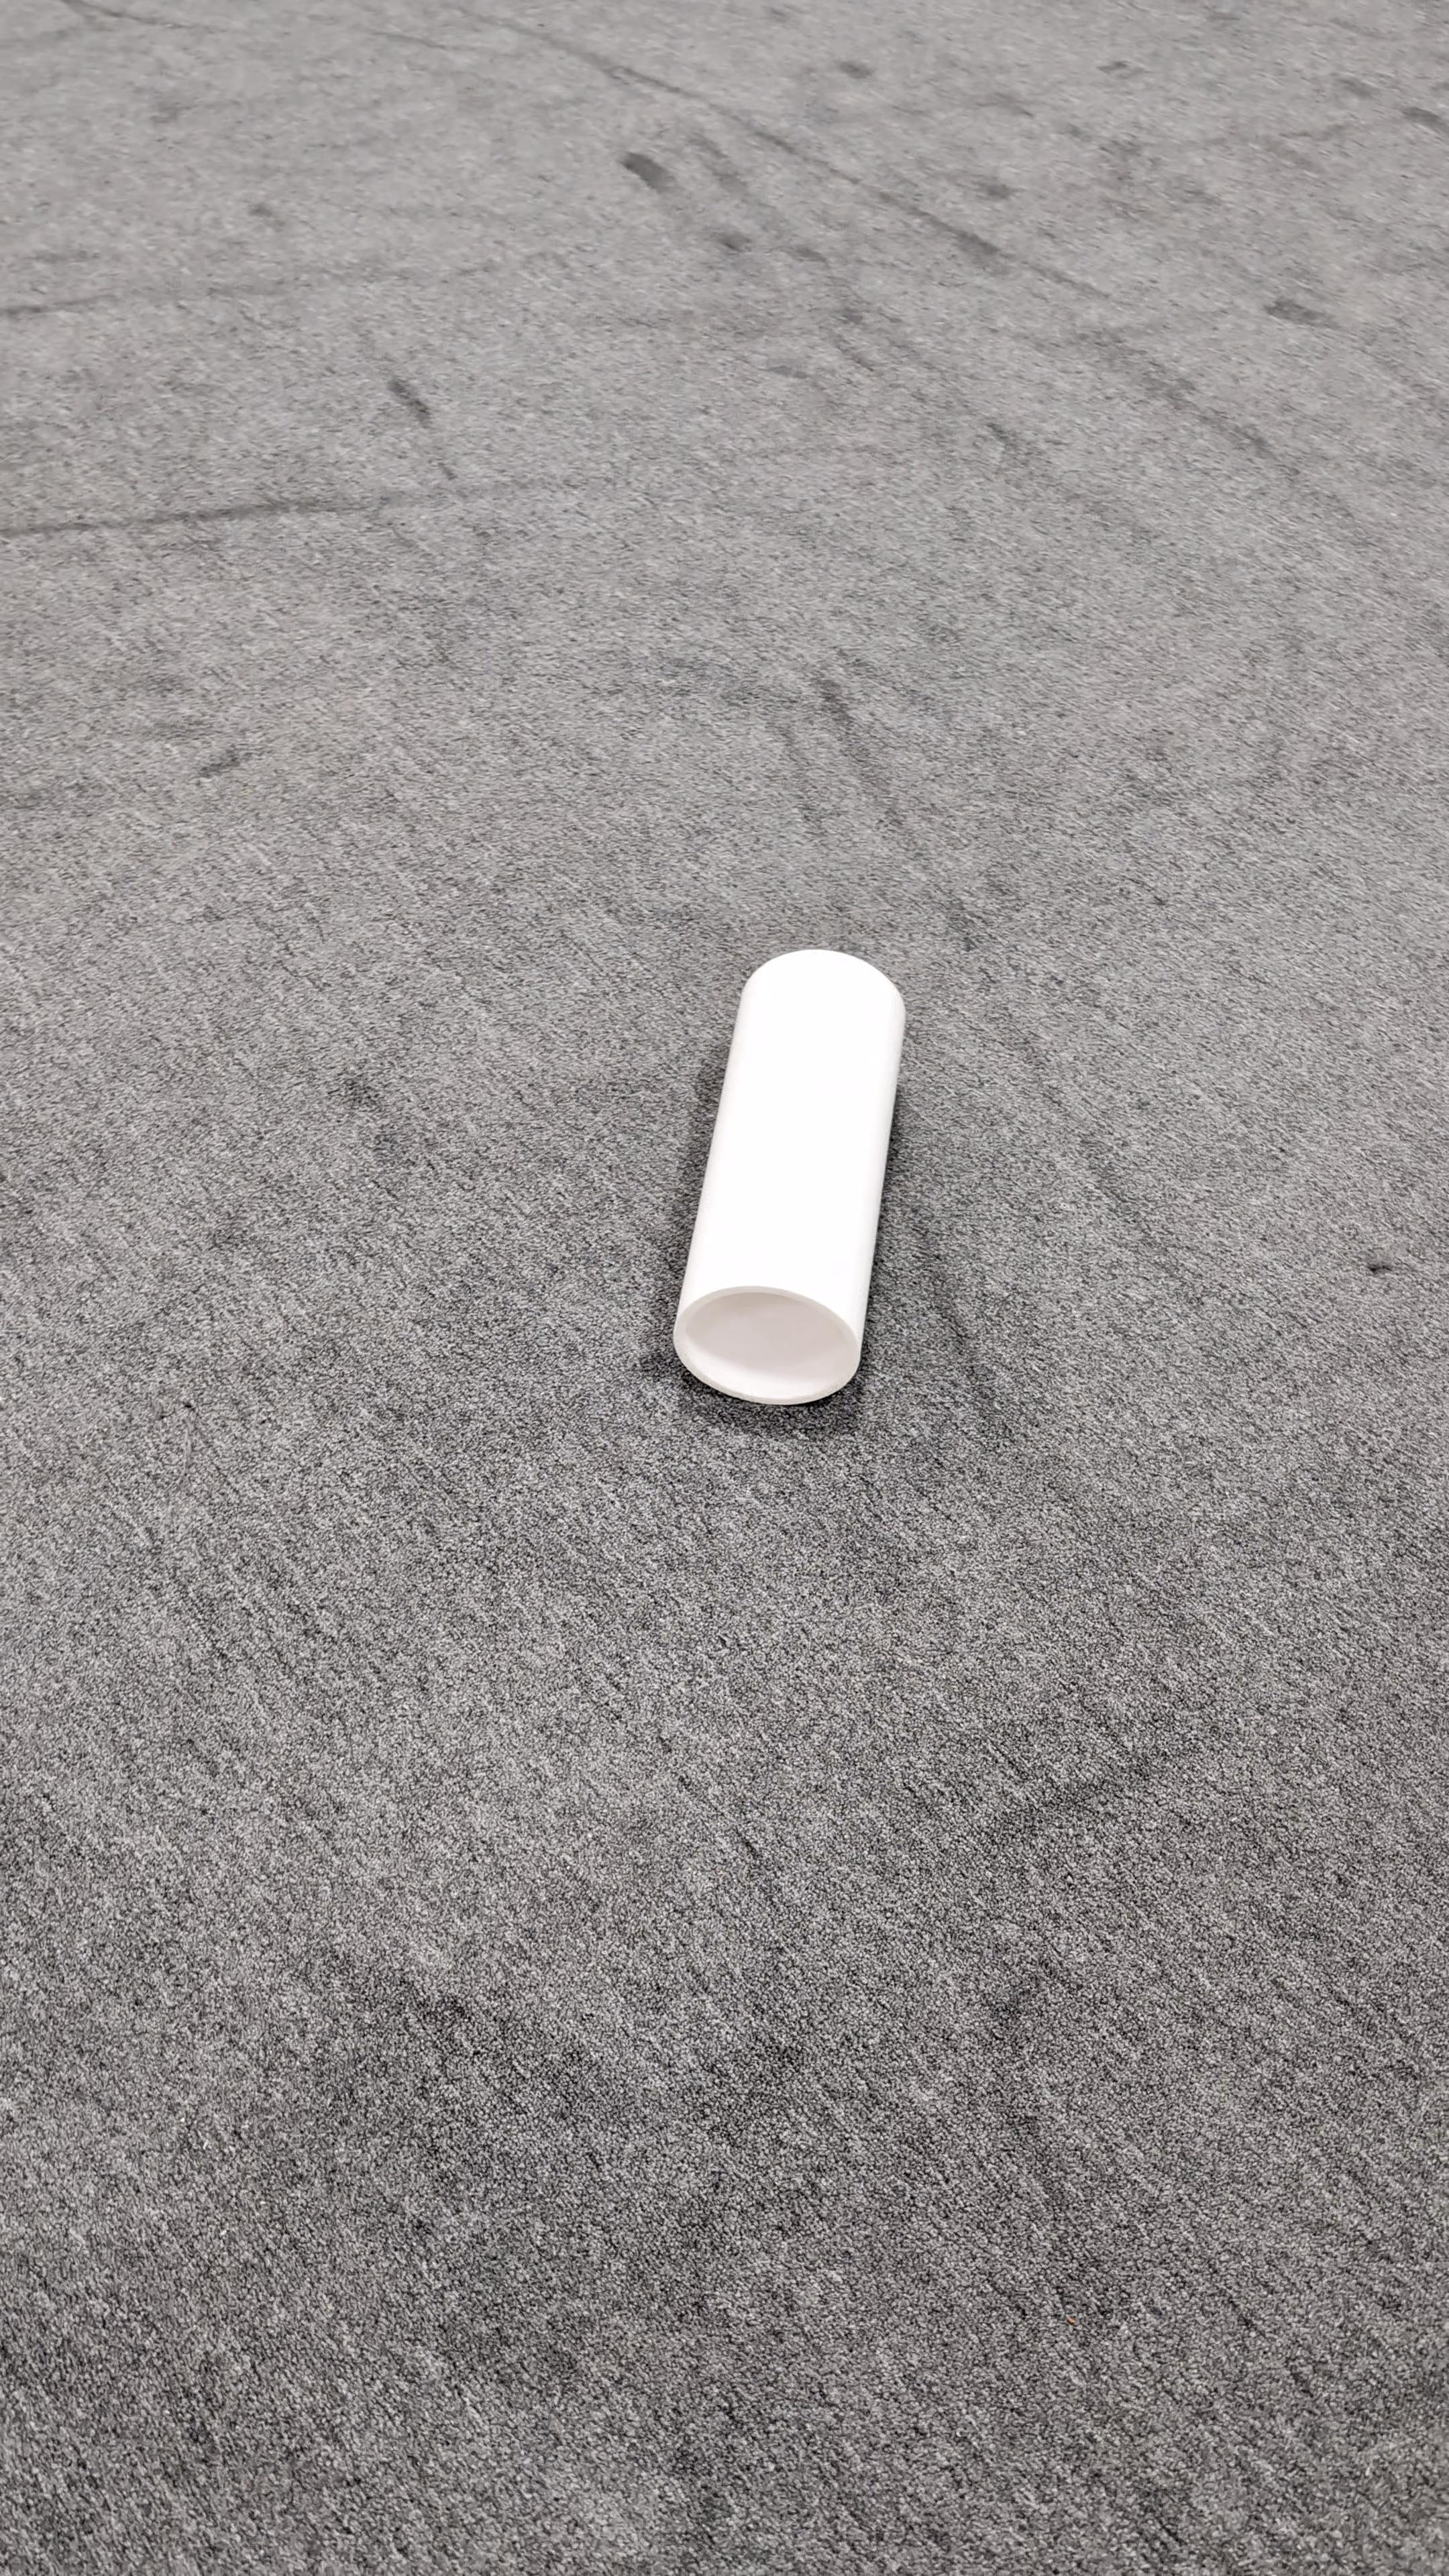coral: (669, 950, 908, 1405)
